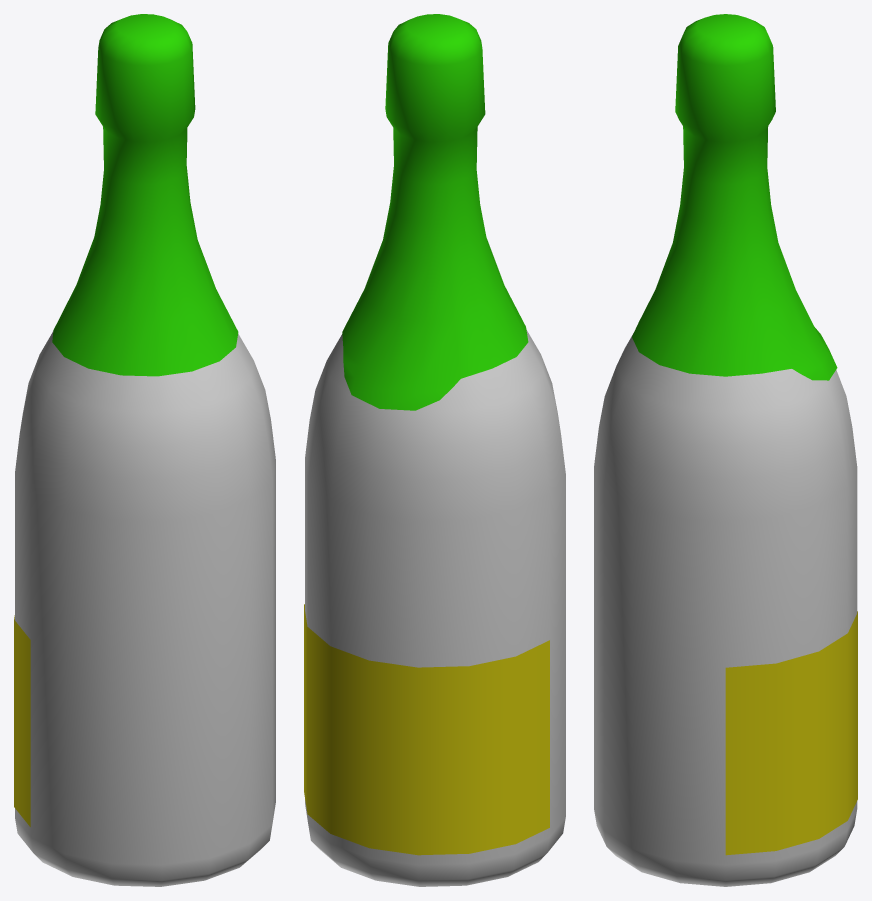
The model's file is BHP_MOD_E_BOT_Champagne.fbx.
3 views of the same model, side by side, from view 1: azimuth 30°, elevation 25°; view 2: azimuth 150°, elevation 25°; view 3: azimuth 270°, elevation 25° (orthographic).
Parts seen in each view (by area): view 1: BHP_MOD_E_BOT_Champagne; view 2: BHP_MOD_E_BOT_Champagne; view 3: BHP_MOD_E_BOT_Champagne.
Part boxes in pixels (x1,y1,x2,y2): BHP_MOD_E_BOT_Champagne: (14,14,275,886); BHP_MOD_E_BOT_Champagne: (304,14,565,886); BHP_MOD_E_BOT_Champagne: (594,14,857,886).
Size of the model in its own units: 0.1291 by 0.4363 by 0.1287.
